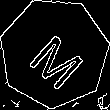M_NE: (21, 19, 88, 87)
